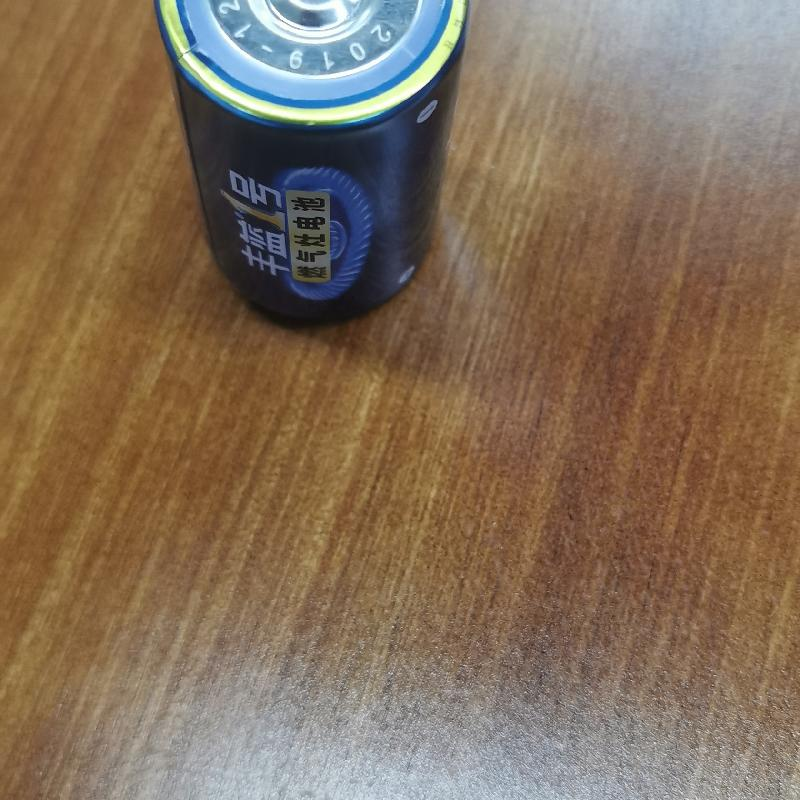battery: (148, 0, 475, 329)
